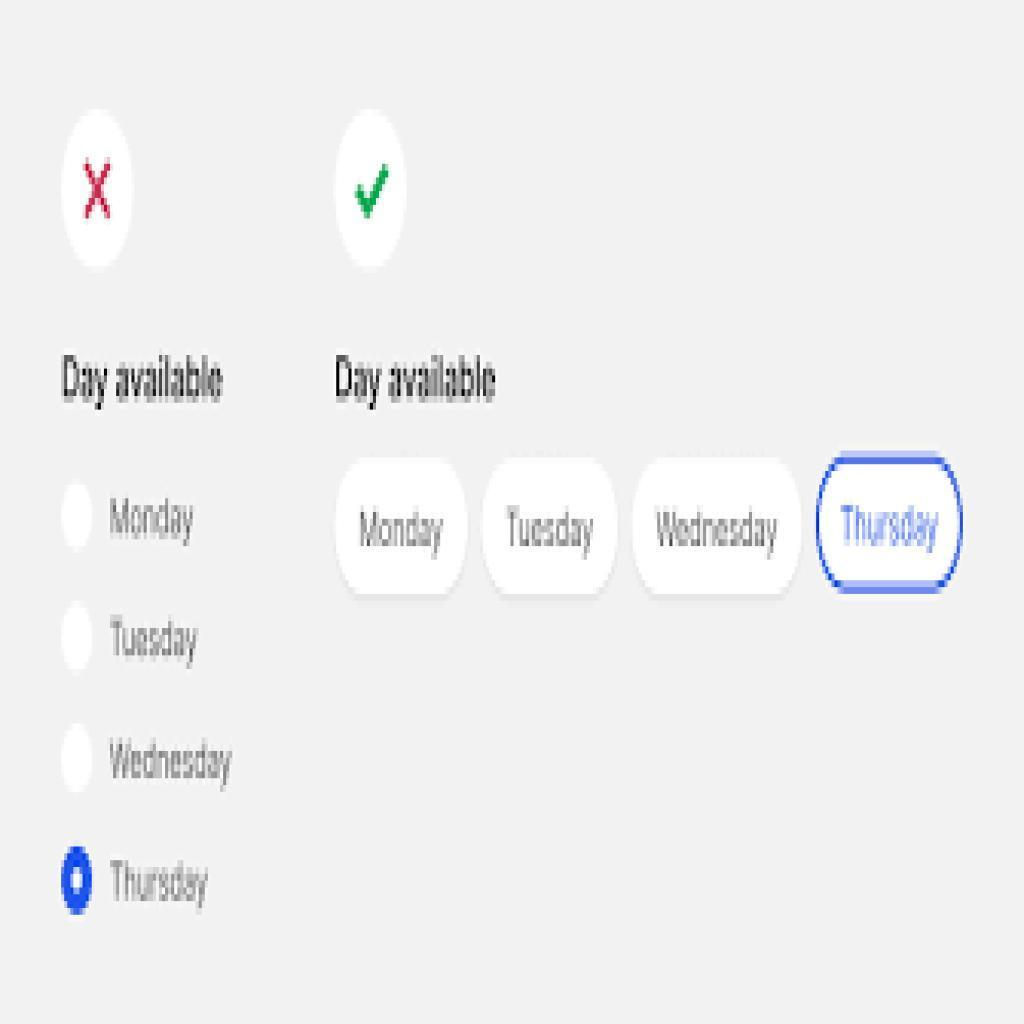button: (630, 454, 804, 595), (815, 450, 966, 599), (482, 455, 619, 598), (335, 457, 470, 598)
label: (110, 733, 238, 792), (113, 851, 211, 913), (109, 491, 198, 552), (113, 614, 206, 671)
radio: (60, 838, 108, 937), (57, 721, 104, 804), (53, 480, 100, 560), (62, 596, 100, 688)
